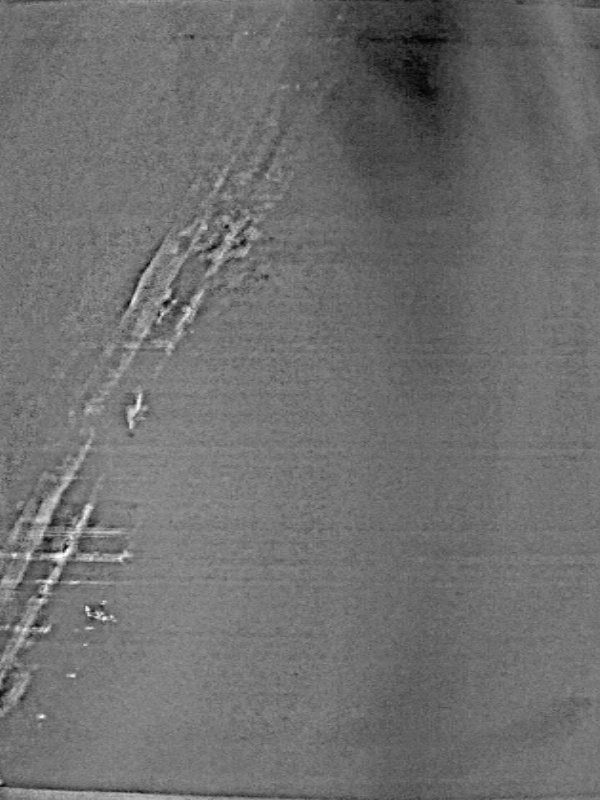splice_vulcanized: (1, 1, 343, 728)
